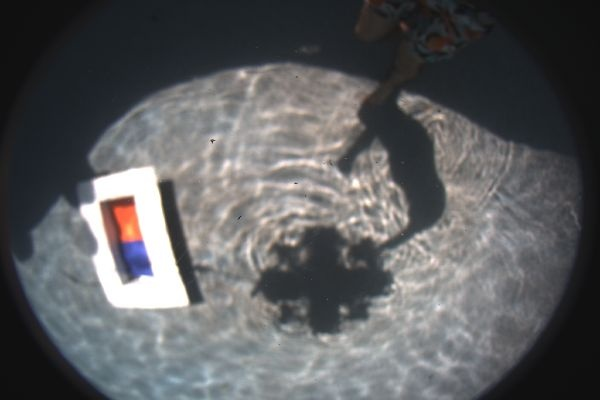bin: (76, 166, 188, 308)
bin_bleue: (118, 240, 150, 274)
bin_rouge: (109, 199, 141, 243)
